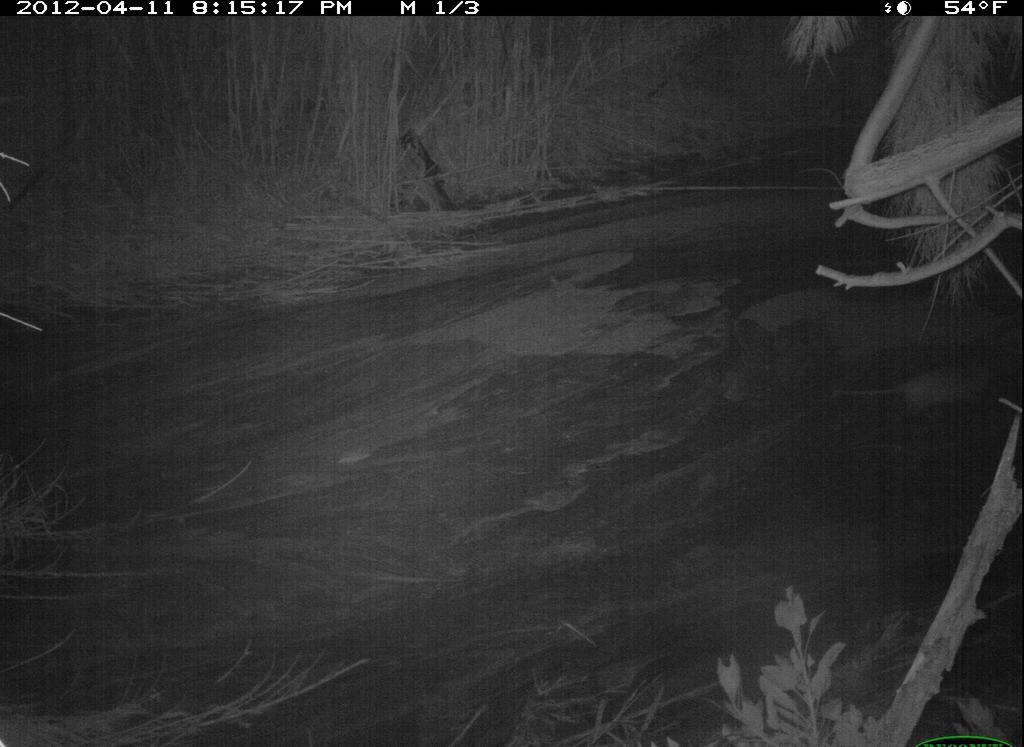opossum: (833, 354, 1003, 427)
